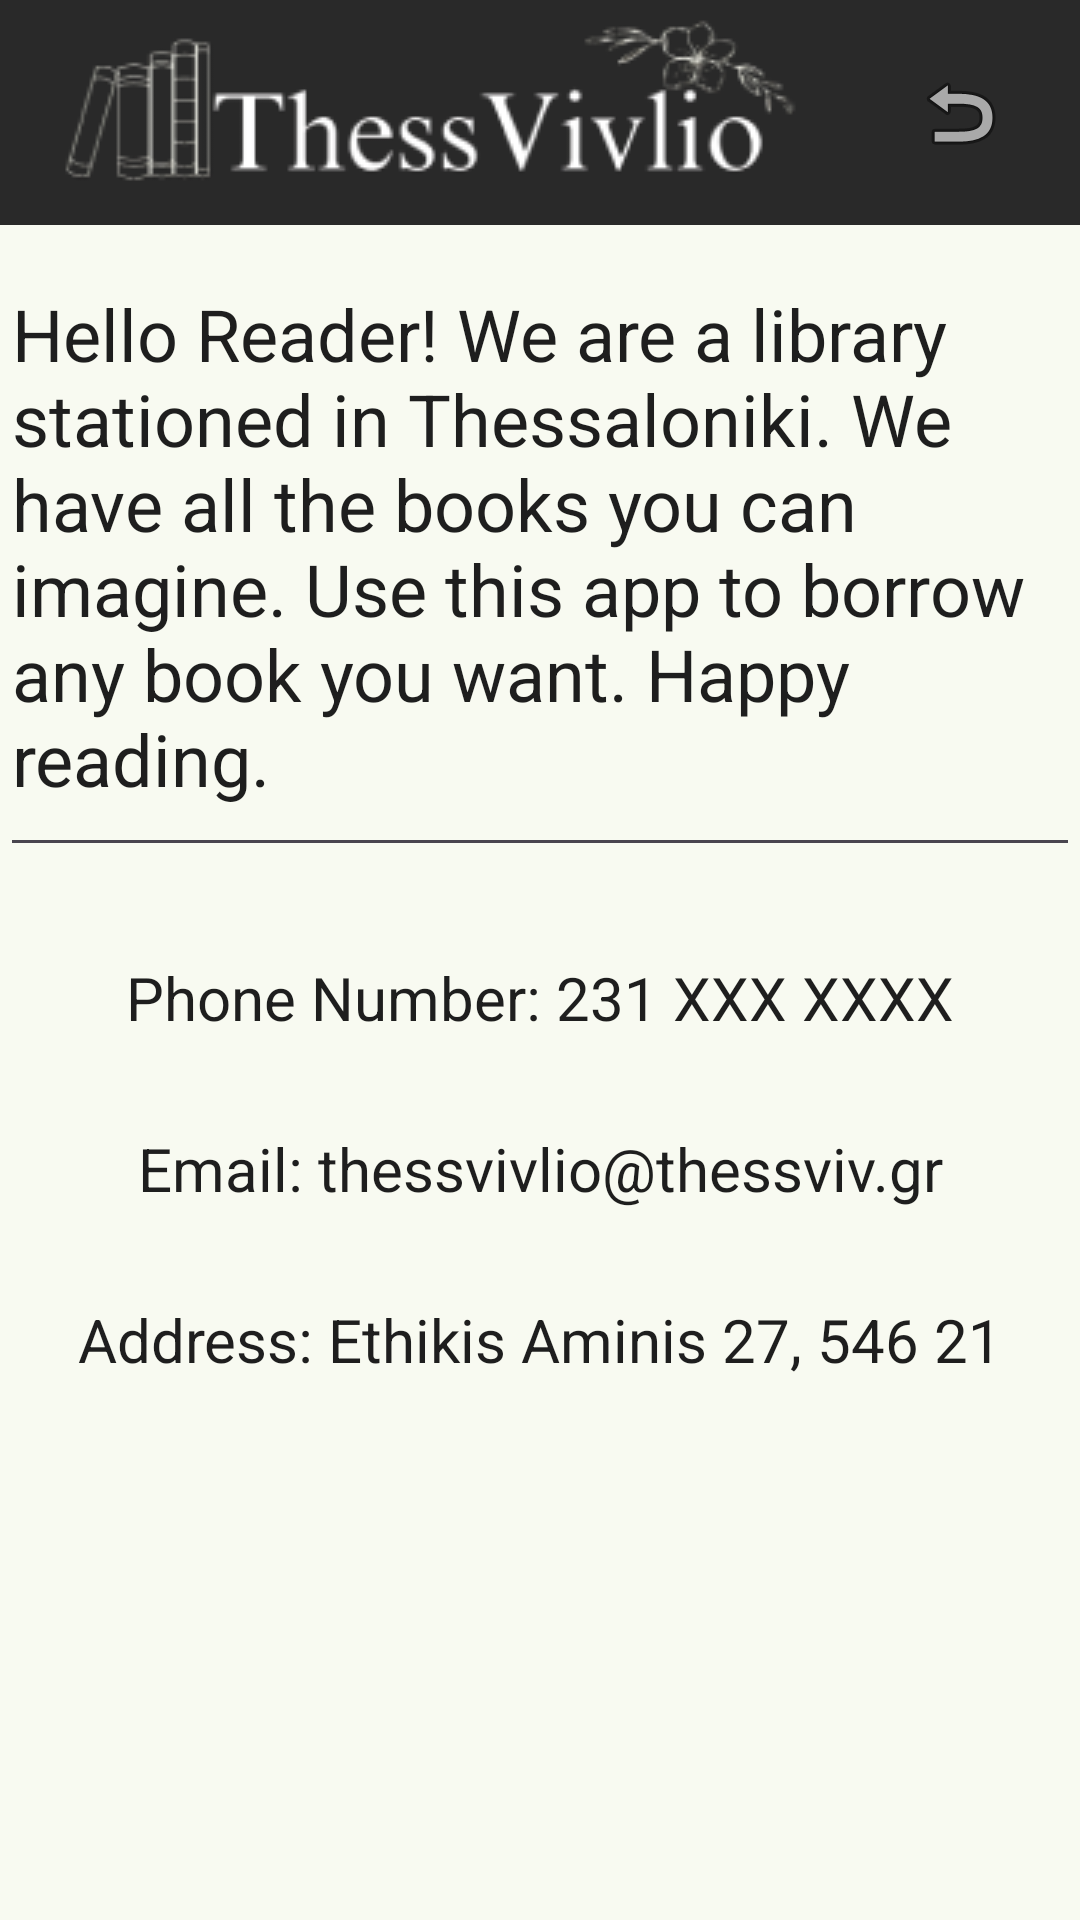

Icon bounding boxes for this 1080px×1920px phone screenshot, format (x1, y1, x2, y2):
revert: (930, 86, 993, 142)
